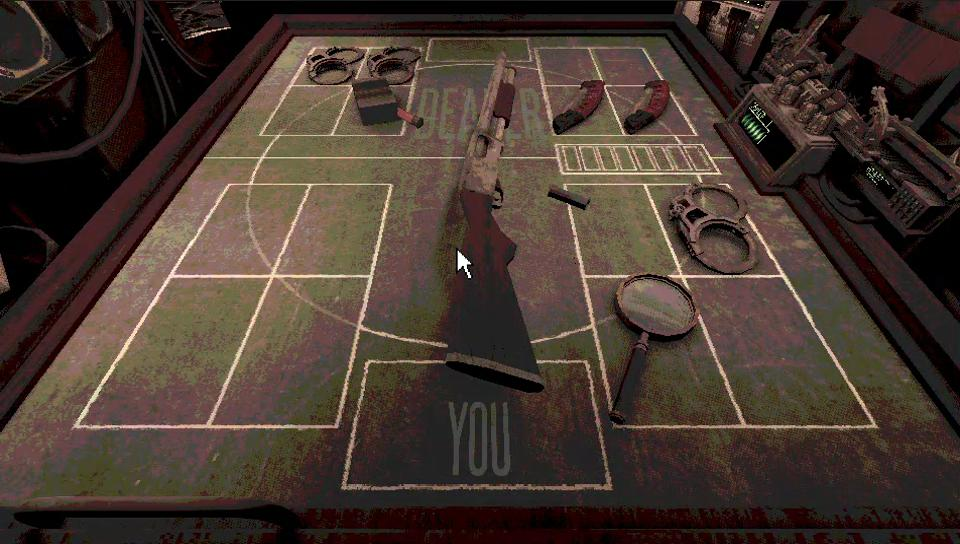ally: (0, 155, 959, 514)
cigar: (352, 80, 403, 133)
doubledamage: (552, 81, 603, 134), (624, 78, 669, 133)
emptyspace: (73, 275, 271, 429), (686, 276, 879, 426), (209, 274, 371, 427), (169, 184, 309, 278), (566, 182, 685, 278), (269, 185, 391, 278), (259, 85, 354, 136), (593, 47, 667, 87), (537, 48, 602, 87)
enemyspace: (203, 33, 765, 158)
gun: (440, 53, 544, 392)
handcuff: (668, 183, 764, 273), (308, 47, 365, 84), (367, 46, 421, 84)
lens: (610, 274, 698, 427)
